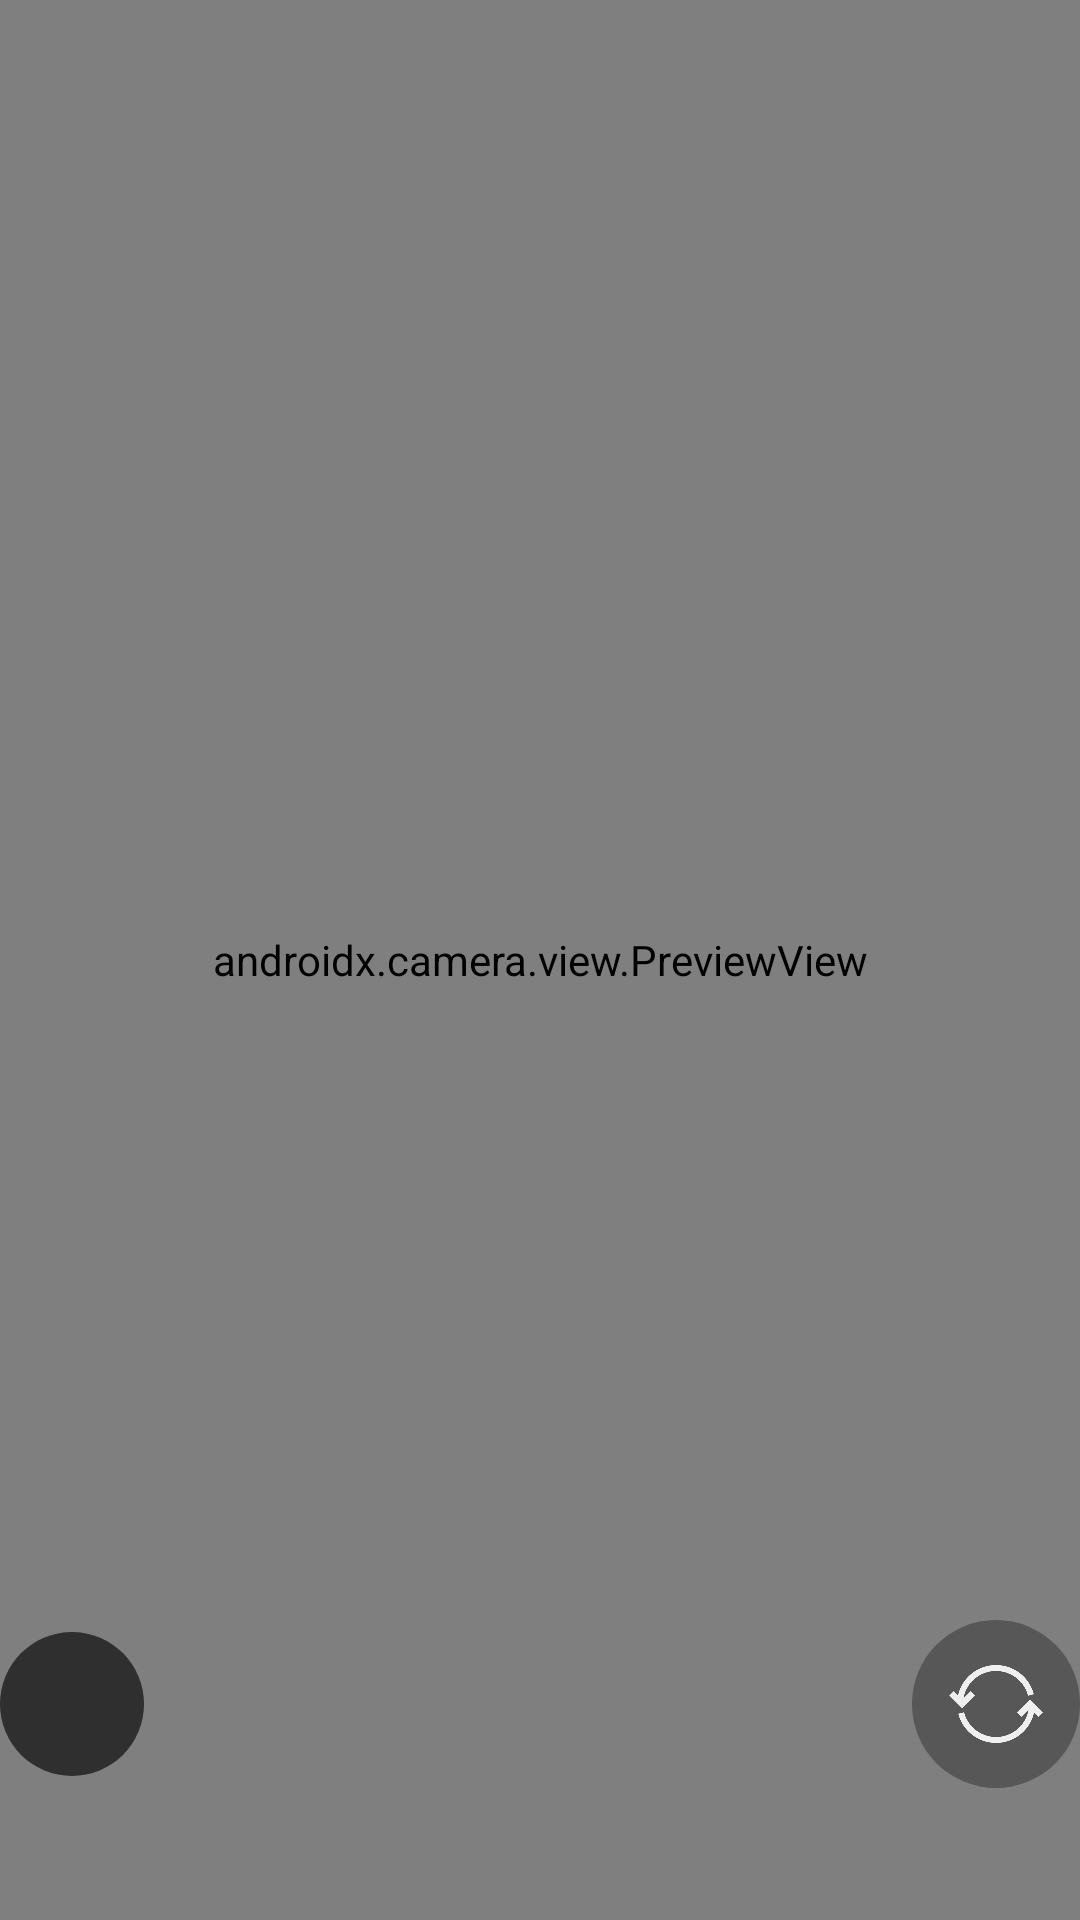

Named icons in this screenshot (1080px×1920px) and their centers, (x=x, y=y):
switch camera: (x=996, y=1704)
